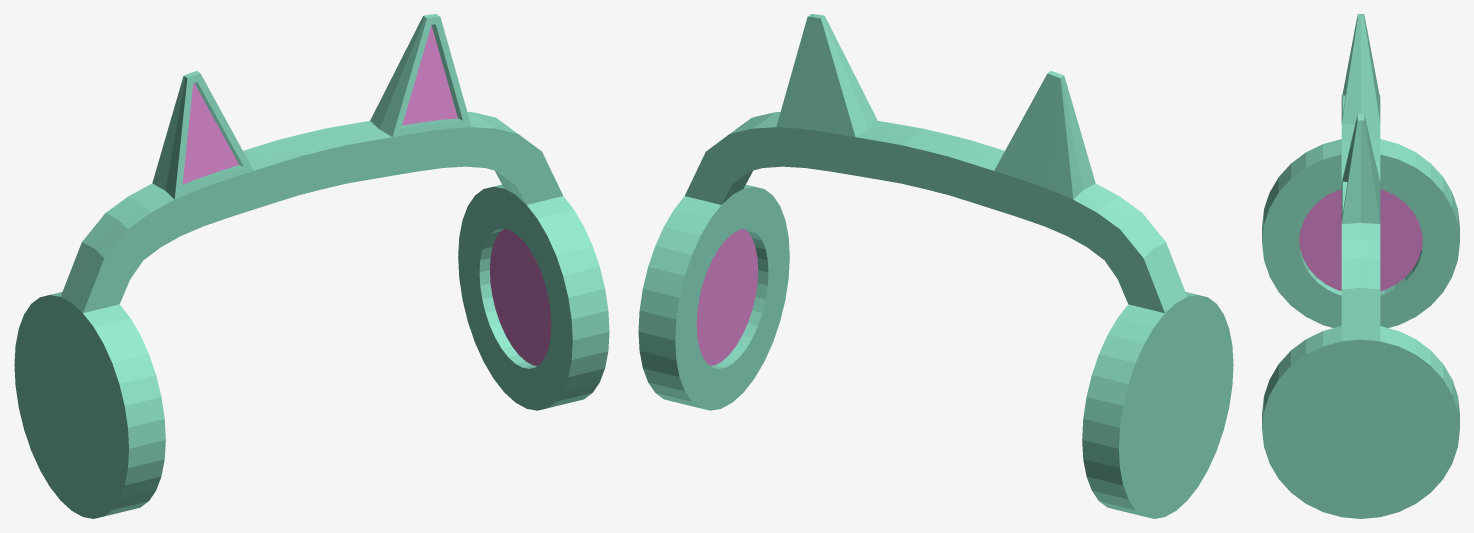
The model's file is hat.fbx.
3 renders of one model, left to right at view 1: azimuth 30°, elevation 25°; view 2: azimuth 150°, elevation 25°; view 3: azimuth 270°, elevation 25°, orthographic. The views are drawn at different scales.
Parts seen in each view (by area): view 1: Cylinder; view 2: Cylinder; view 3: Cylinder.
Part boxes in pixels (x1,y1,x2,y2): Cylinder: [14, 14, 609, 518]; Cylinder: [638, 14, 1233, 518]; Cylinder: [1262, 14, 1459, 518].
Size of what is drawn, in the model's own units: 10.01 by 8.12 by 4.14.
Materials: 1 (1 with a texture image).
